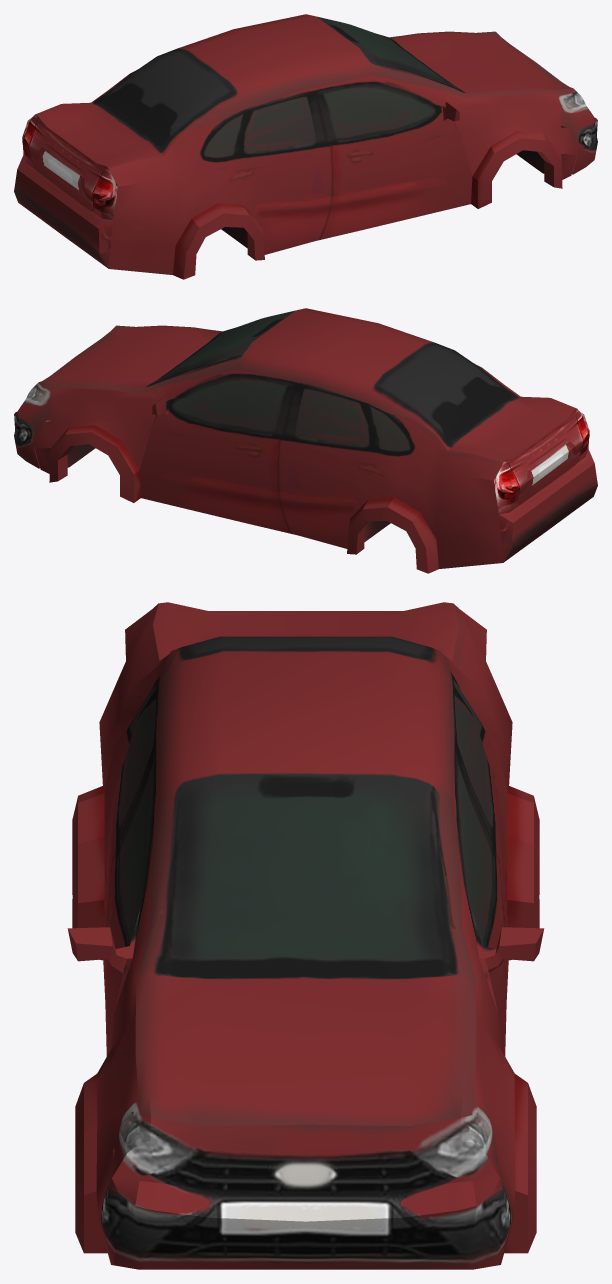
The model's file is lada granta.fbx.
3 renders of one model, top to bottom at view 1: azimuth 30°, elevation 25°; view 2: azimuth 150°, elevation 25°; view 3: azimuth 270°, elevation 25°, orthographic. The views are drawn at different scales.
Parts seen in each view (by area): view 1: Plane; view 2: Plane; view 3: Plane.
Part boxes in pixels (left/top/right/bottom): Plane: left=14, top=14, right=597, bottom=279; Plane: left=14, top=308, right=597, bottom=573; Plane: left=67, top=602, right=544, bottom=1269.
Bounding box in the file's own units: 453 × 139 × 187.
1 material, 1 textured.
